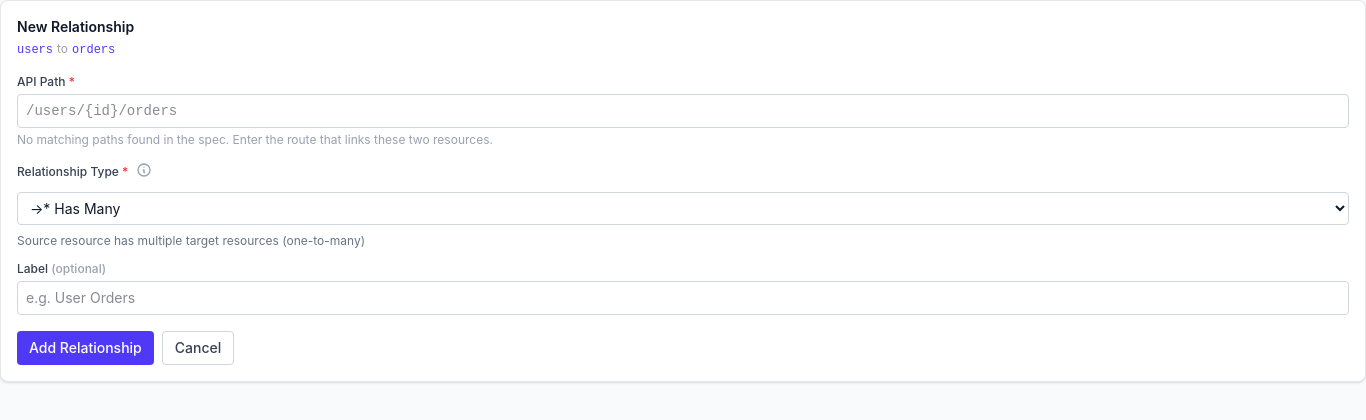
Test: RelationshipForm › shows validation error when path does not start with /
Type "users/orders" into the field with test id "rel-path-input".
click(683, 111); type("users/orders")  # box [17, 94, 1349, 128]
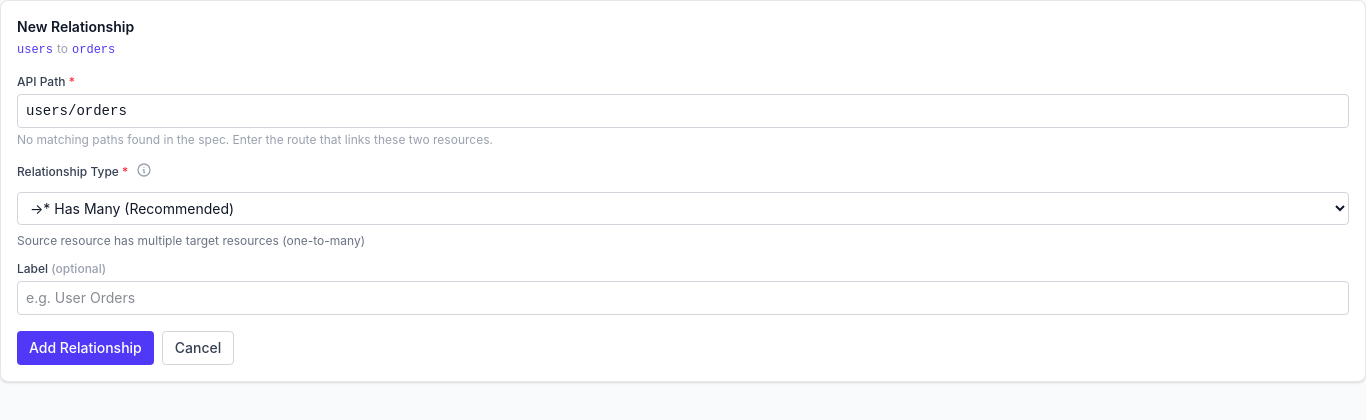
Click the button with test id "rel-form-confirm".
click(85, 348)  # box [17, 331, 154, 365]
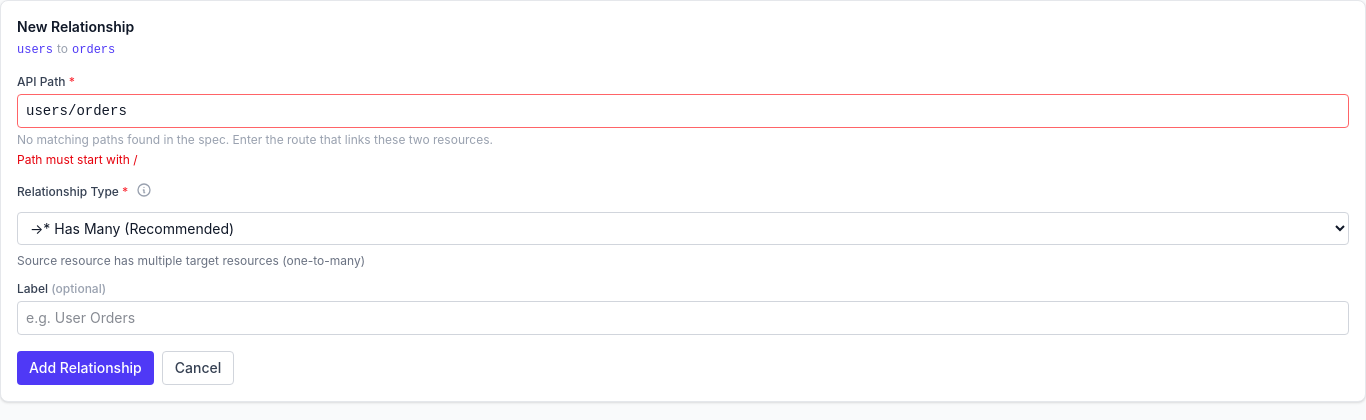
Check: the text "Path must start with /" is shown, box [17, 152, 138, 167]
